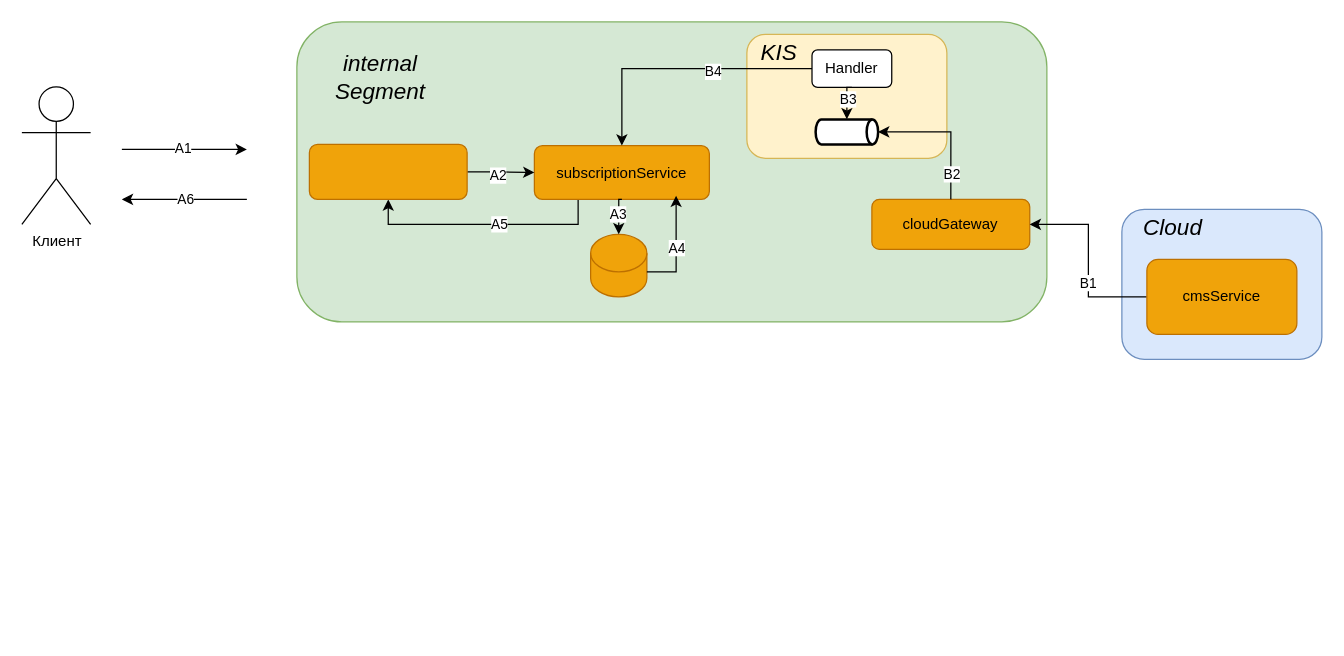
Some shapes in this 1344 by 656 pixel diagram are drawn without their labels. Each missing label, with the centre of its shape:
Internal GateWay: [387,171]
topic: [846,131]
